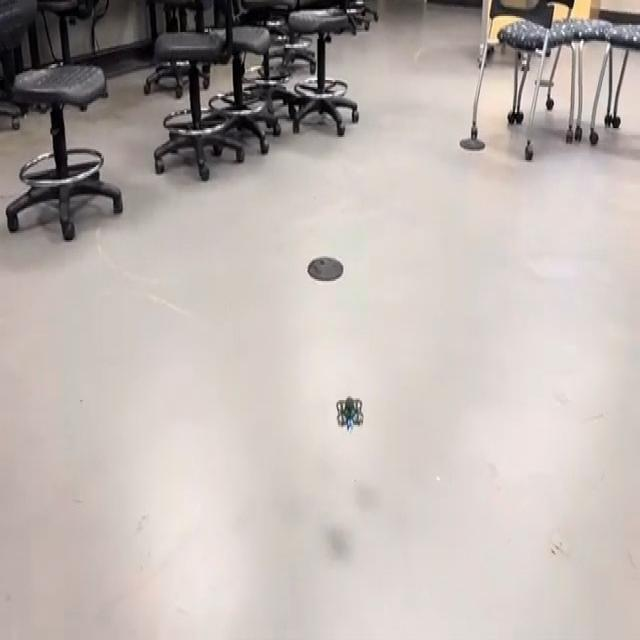drone: (327, 380, 371, 443)
